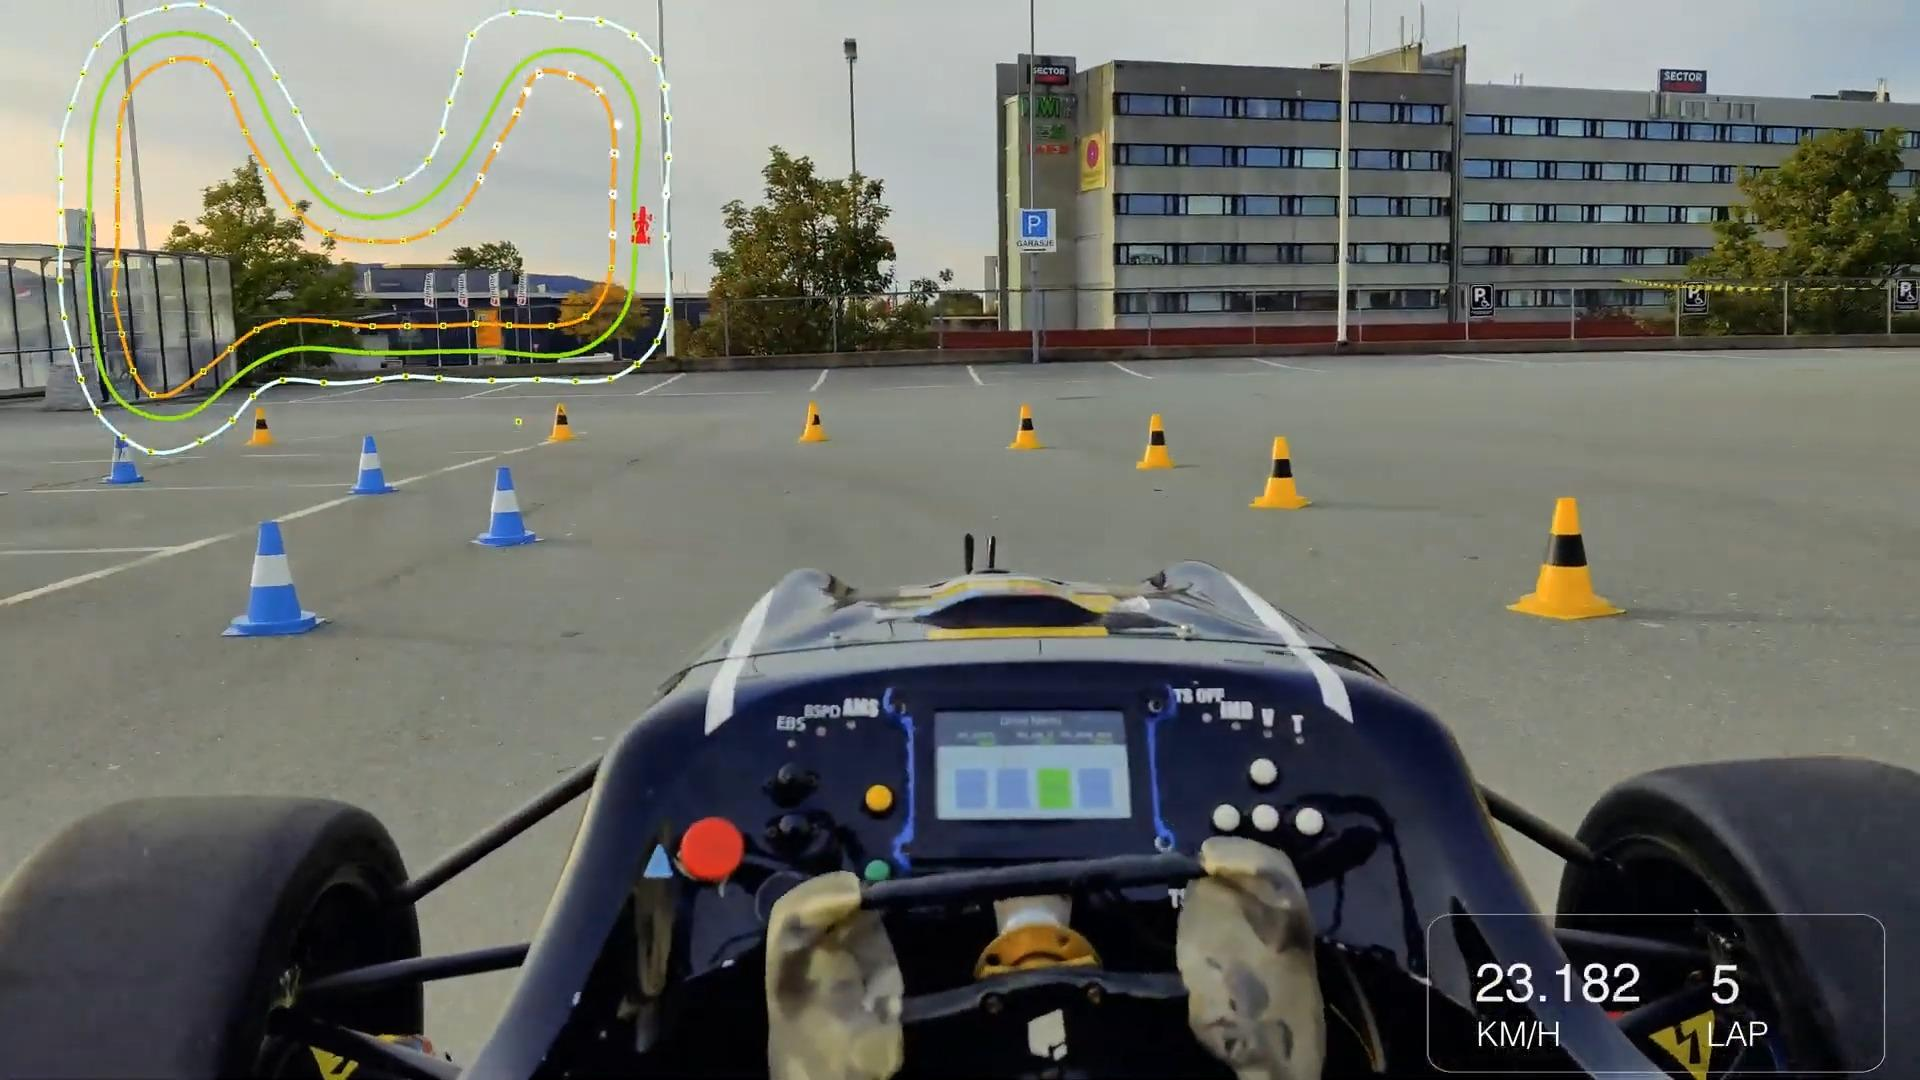blue_cone: (216, 516, 323, 638), (473, 460, 542, 559), (347, 429, 392, 500), (103, 433, 150, 488)
yellow_cone: (1501, 489, 1629, 622), (1250, 435, 1312, 513), (1131, 409, 1178, 475), (1005, 400, 1043, 451), (798, 404, 833, 446), (545, 401, 576, 440), (247, 405, 273, 444)
